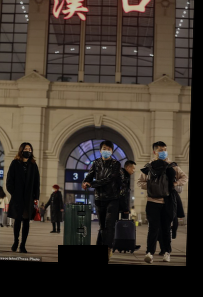with_mask: (155, 146, 169, 159), (101, 145, 113, 158), (22, 146, 32, 158)
without_mask: (129, 165, 136, 175)
